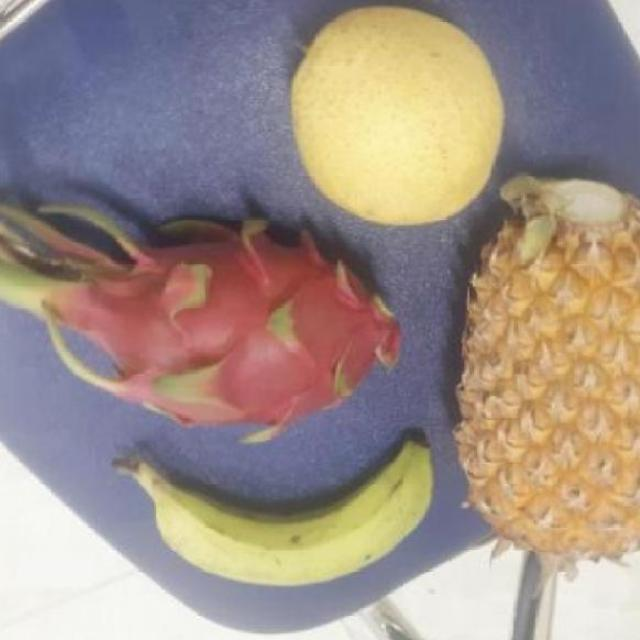banana: (142, 434, 442, 588)
dragon fruit: (62, 214, 436, 436)
pear: (286, 7, 510, 230)
pineapple: (452, 180, 640, 550)
